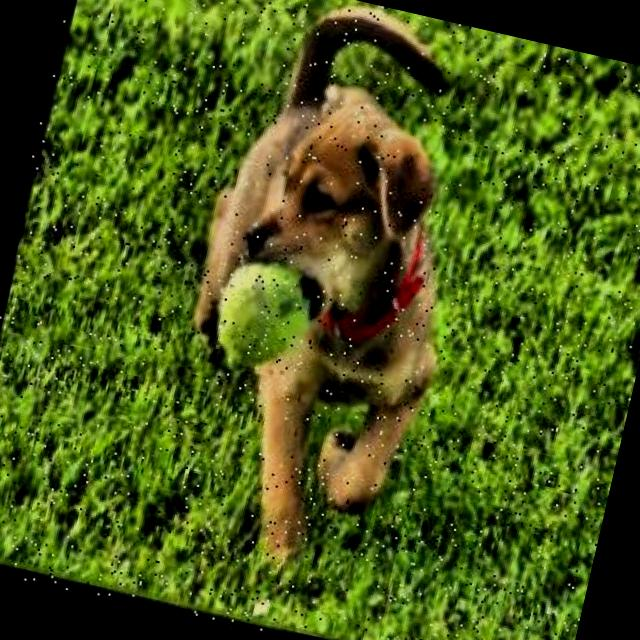tennis-ball: (200, 250, 320, 388)
